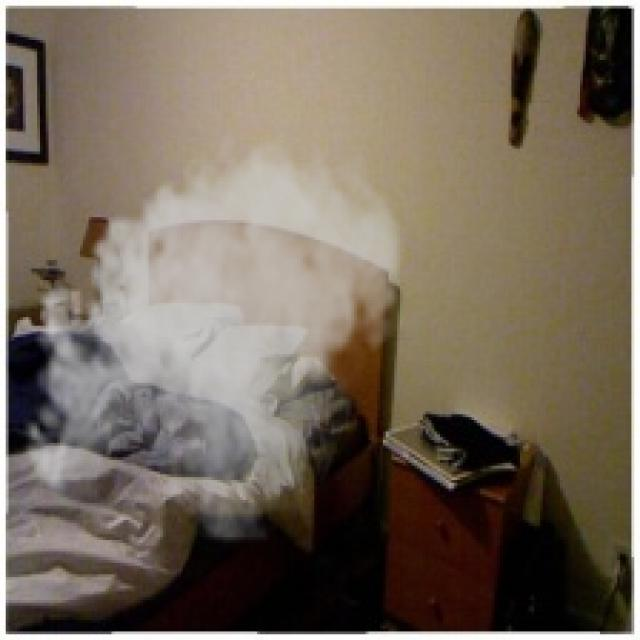smoke: (11, 126, 412, 543)
